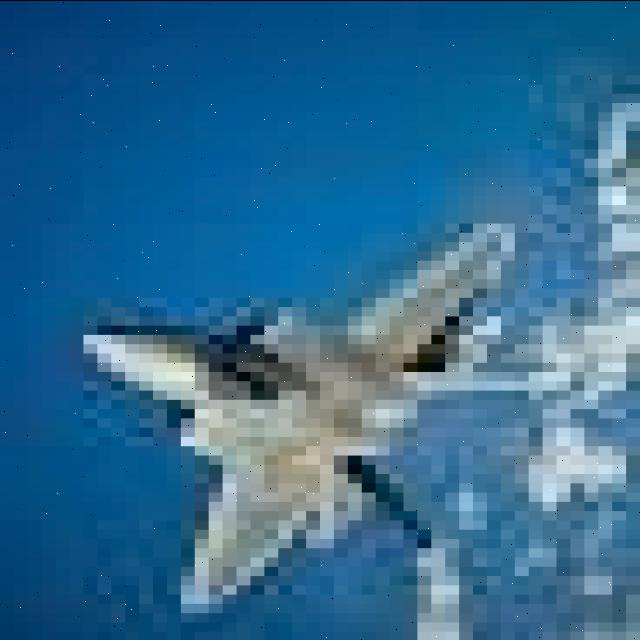F22: (50, 176, 590, 640)
